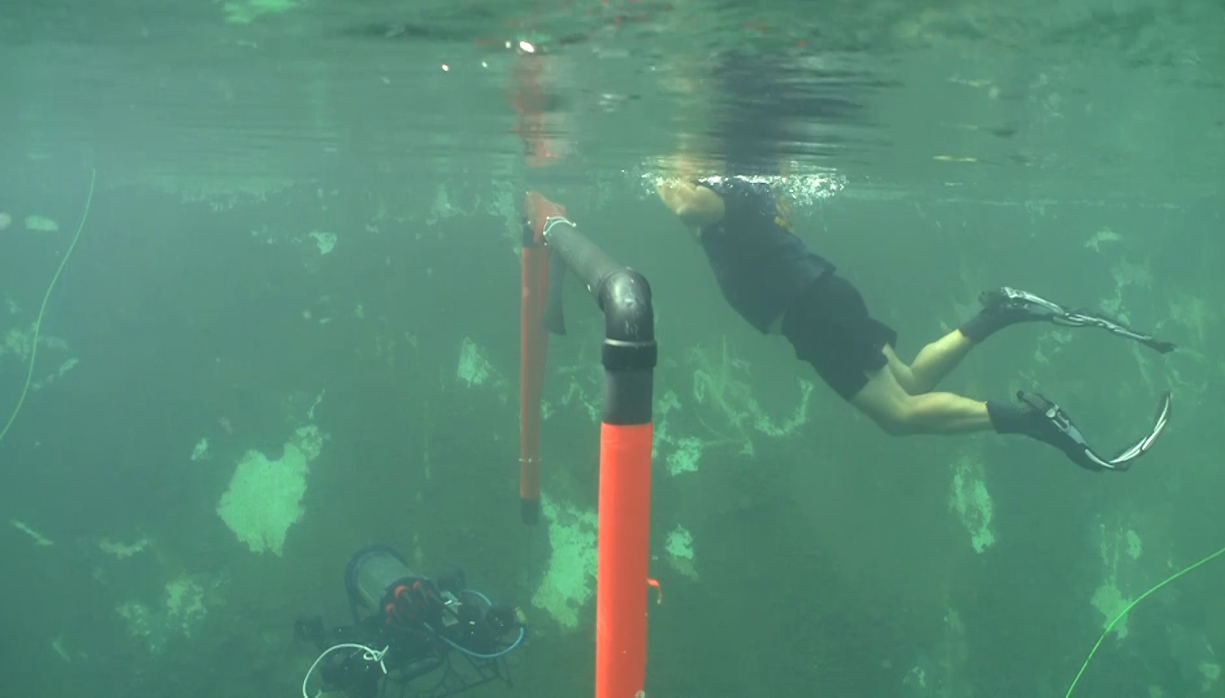gate: (506, 181, 664, 698)
